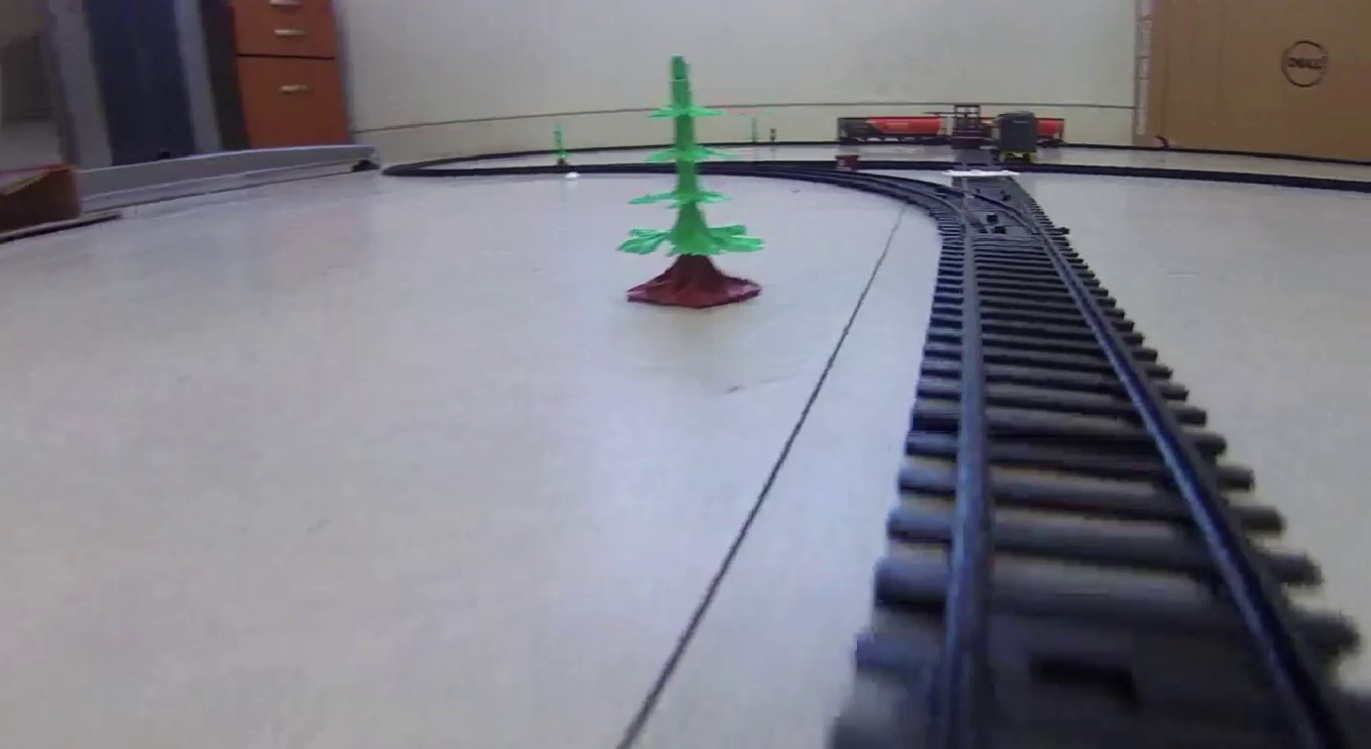tree: (614, 51, 763, 308)
